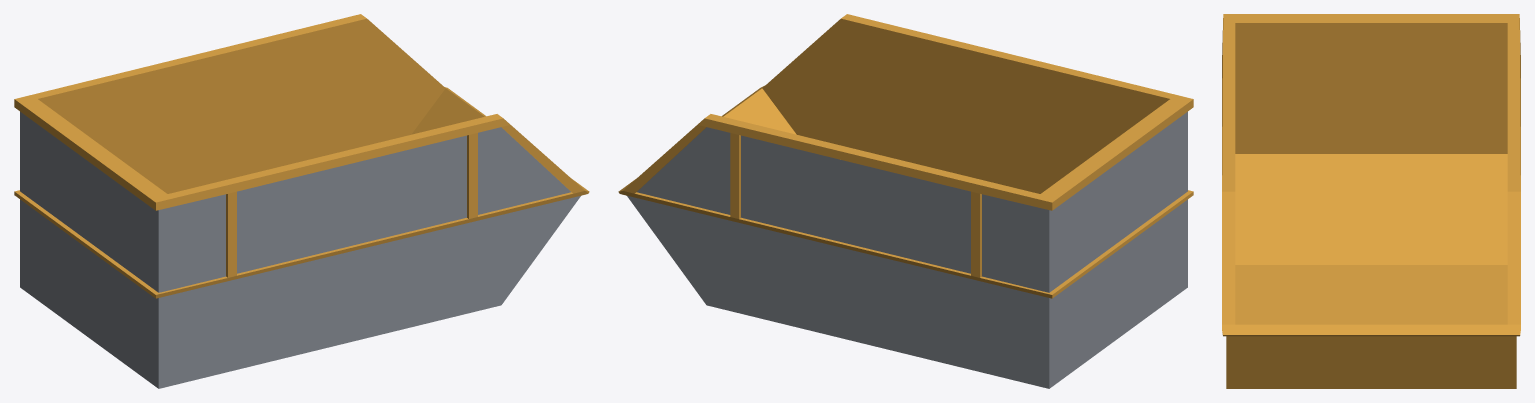
The model's file is SM_trash_can_02.glb.
The picture shows the model from 3 angles, left to right: view 1: azimuth 30°, elevation 25°; view 2: azimuth 150°, elevation 25°; view 3: azimuth 270°, elevation 25°; orthographic projection. The views are drawn at different scales.
Visible parts, largest first — view 1: SM_trash_can_02; view 2: SM_trash_can_02; view 3: SM_trash_can_02.
Boxes of the visible parts, box(x1,y1,x2,y2) form: SM_trash_can_02: box(14, 14, 589, 388); SM_trash_can_02: box(618, 14, 1193, 388); SM_trash_can_02: box(1222, 14, 1520, 388).
Size of the model in its own units: 3.61 by 1.5 by 2.06.
1 material, 1 textured.
